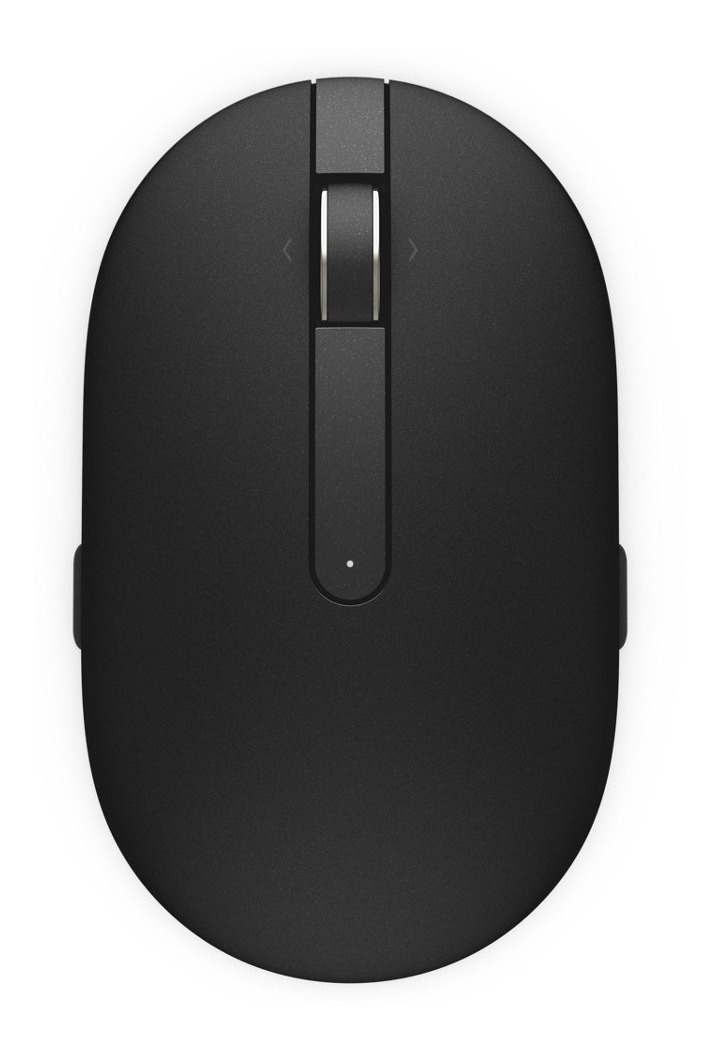mouse: (76, 60, 638, 1004)
